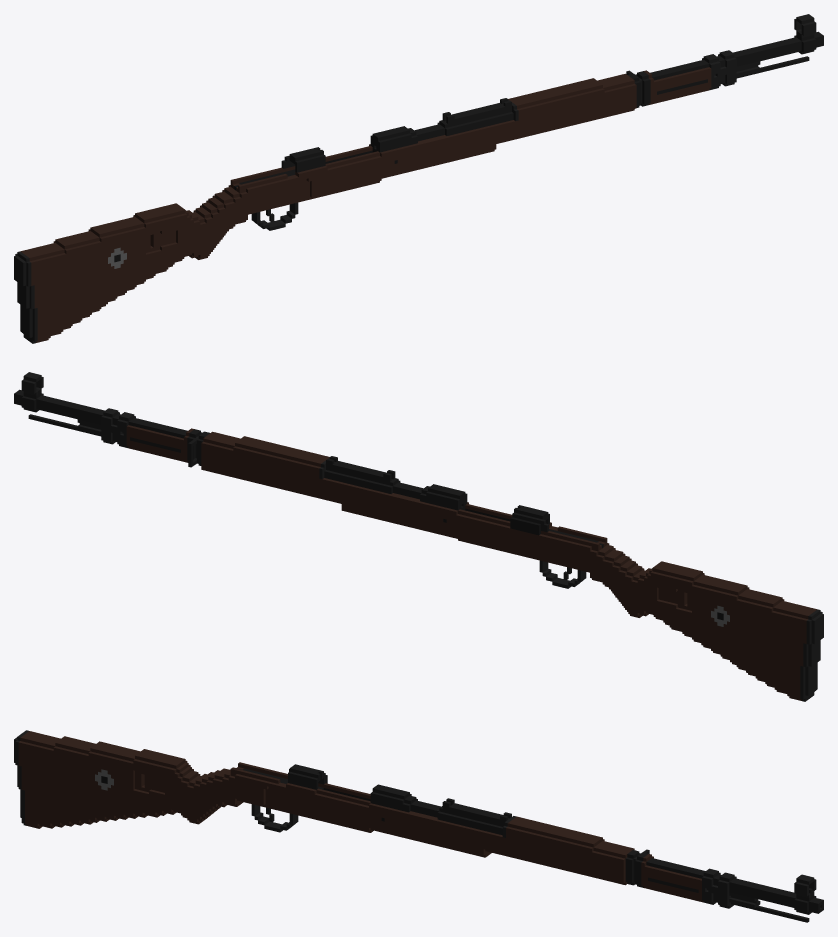
File: Kar98k_stock_empty_no_sighthood.obj
The picture shows the model from 3 angles, top to bottom: view 1: azimuth 30°, elevation 25°; view 2: azimuth 150°, elevation 25°; view 3: azimuth 330°, elevation 25°; orthographic projection.
Size of the model in its own units: 25.2 by 4 by 0.9.
Materials: 1 (1 with a texture image).
